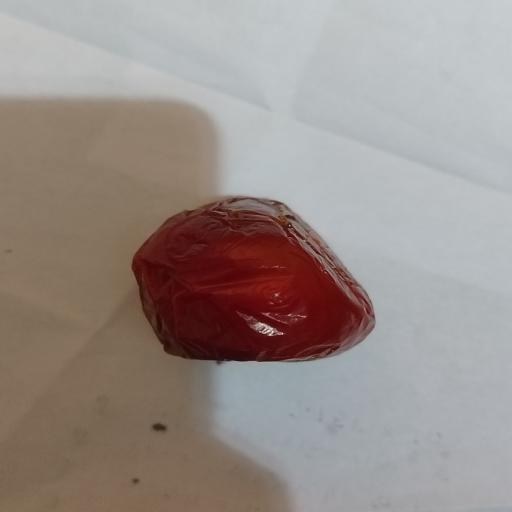spoiled: (132, 197, 375, 361)
